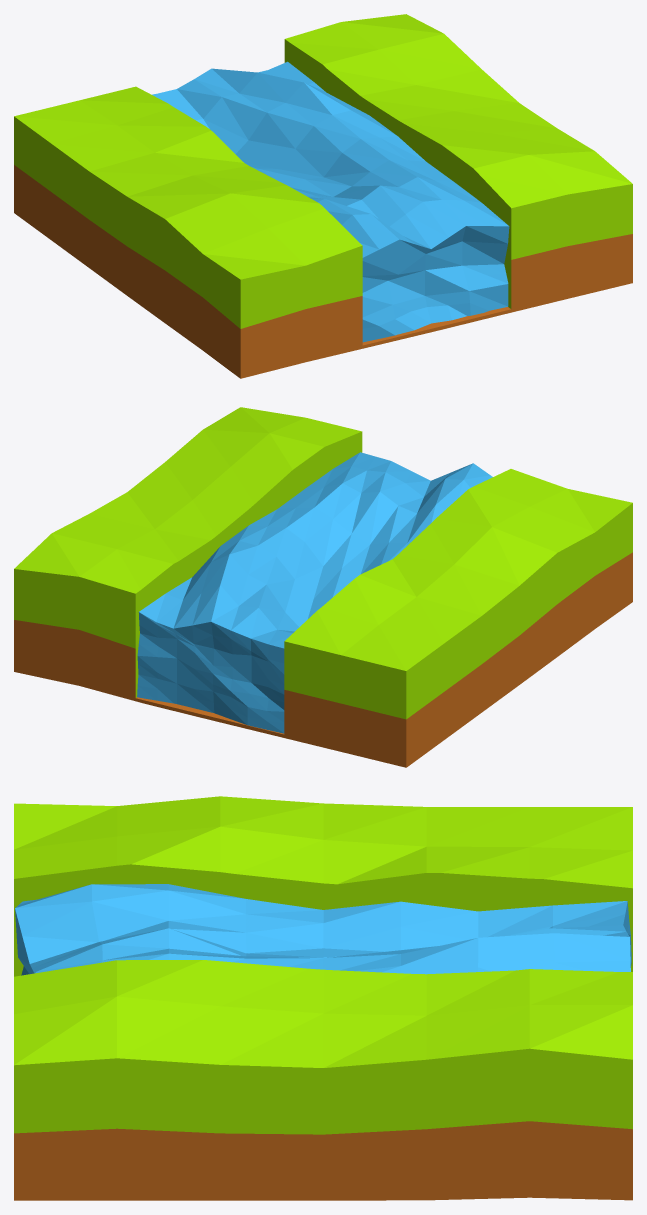
File: RIVIERE_eau-vegetal.fbx
The picture shows the model from 3 angles, top to bottom: view 1: azimuth 30°, elevation 25°; view 2: azimuth 150°, elevation 25°; view 3: azimuth 270°, elevation 25°; orthographic projection. The views are drawn at different scales.
Visible parts, largest first — view 1: Plane.003; view 2: Plane.003; view 3: Plane.003.
Part boxes in pixels (x1,y1,x2,y2): Plane.003: [14, 14, 632, 378]; Plane.003: [14, 407, 632, 767]; Plane.003: [14, 796, 632, 1200].
Size of the model in its own units: 5 by 1.42 by 5.
